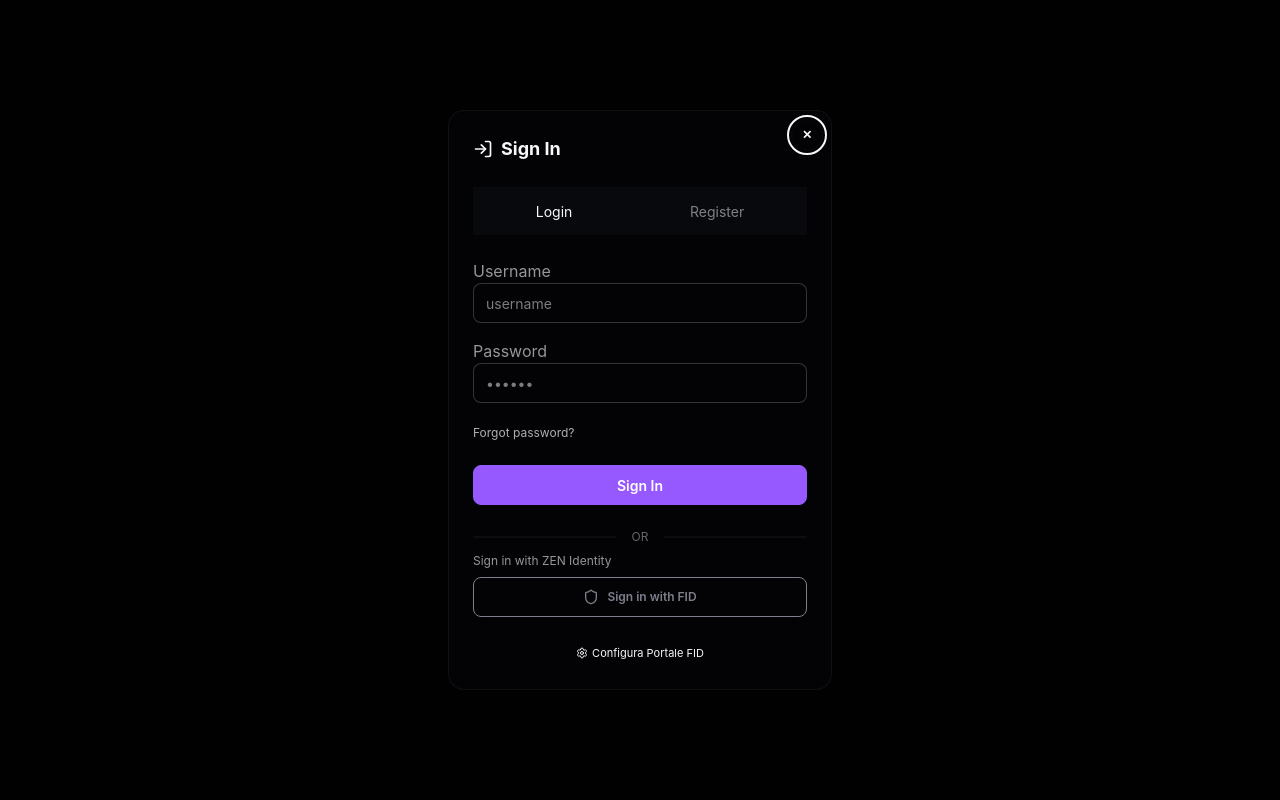
Test: AuthModal › switches to register mode
Expected: the field labelled "Username" is shown, [473, 283, 807, 323]
Click the tab "Register" at coordinates (717, 211), box [631, 191, 803, 231]
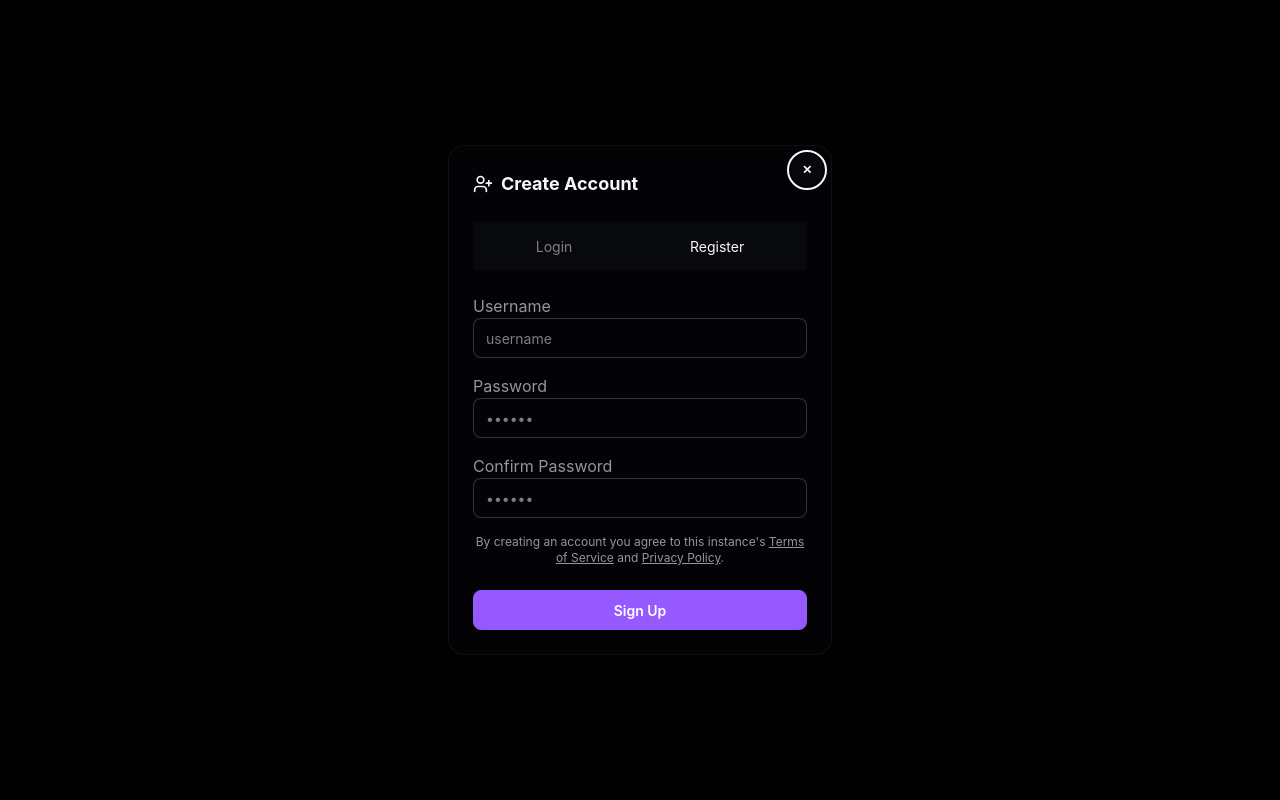
Expected: the button "Sign Up" is shown, [473, 590, 807, 630]
Expected: the password field labelled "Confirm Password" is shown, [473, 478, 807, 518]
